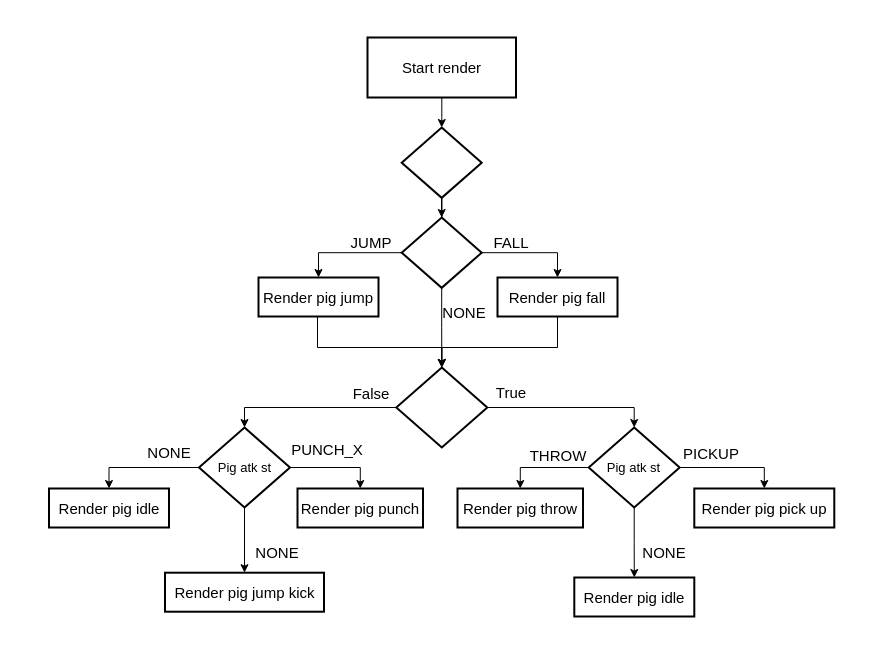
The diagram is 884 pixels wide and 664 high, and some of its shapes have lost their labels. The shapes that lost their labels are listed below. From the top down, each one's centre as x and y in pixels, then its label:
point (441, 162): Hit tick
point (441, 252): Pig st
point (441, 407): Holding weapon
